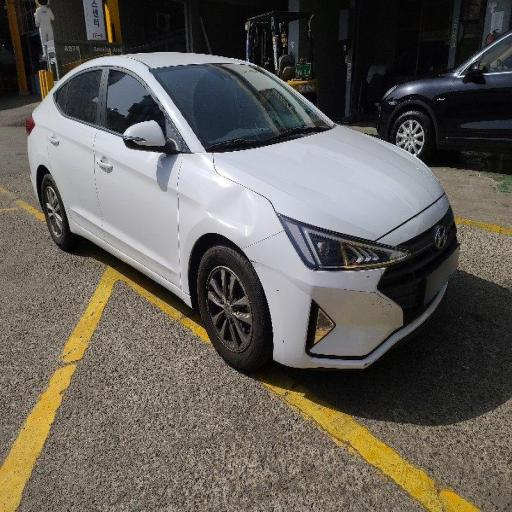dent: (171, 144, 291, 266)
